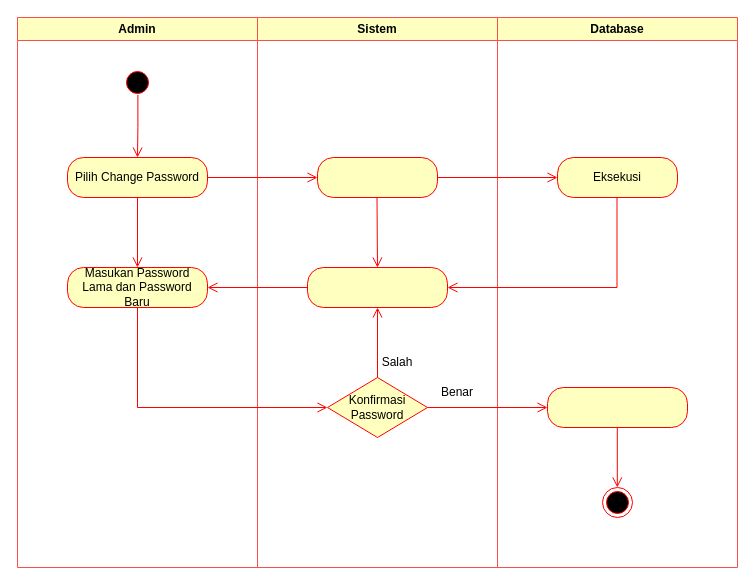
The diagram is 755 pixels wide and 585 high, and some of its shapes have lost their labels. Each missing label, with the centre of its shape:
Password Berhasil di Ubah: point 617,407
Request: point 377,177
Tampilkan Form Ubah Password: point 377,287
